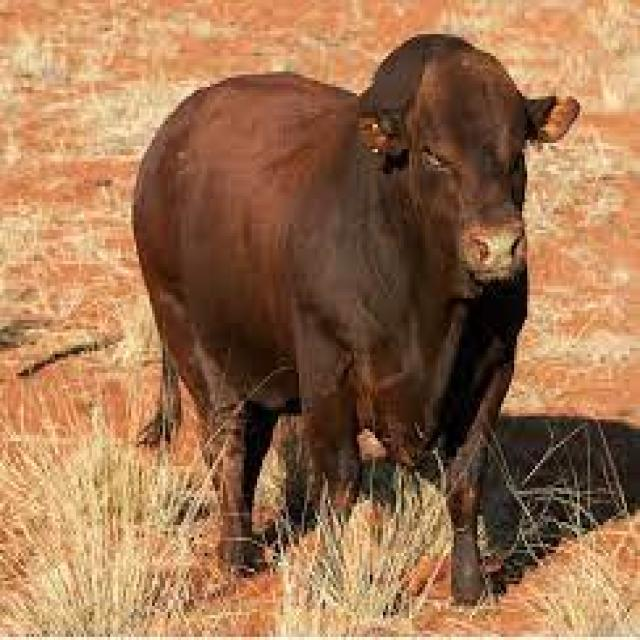cowFace: (304, 22, 590, 357)
